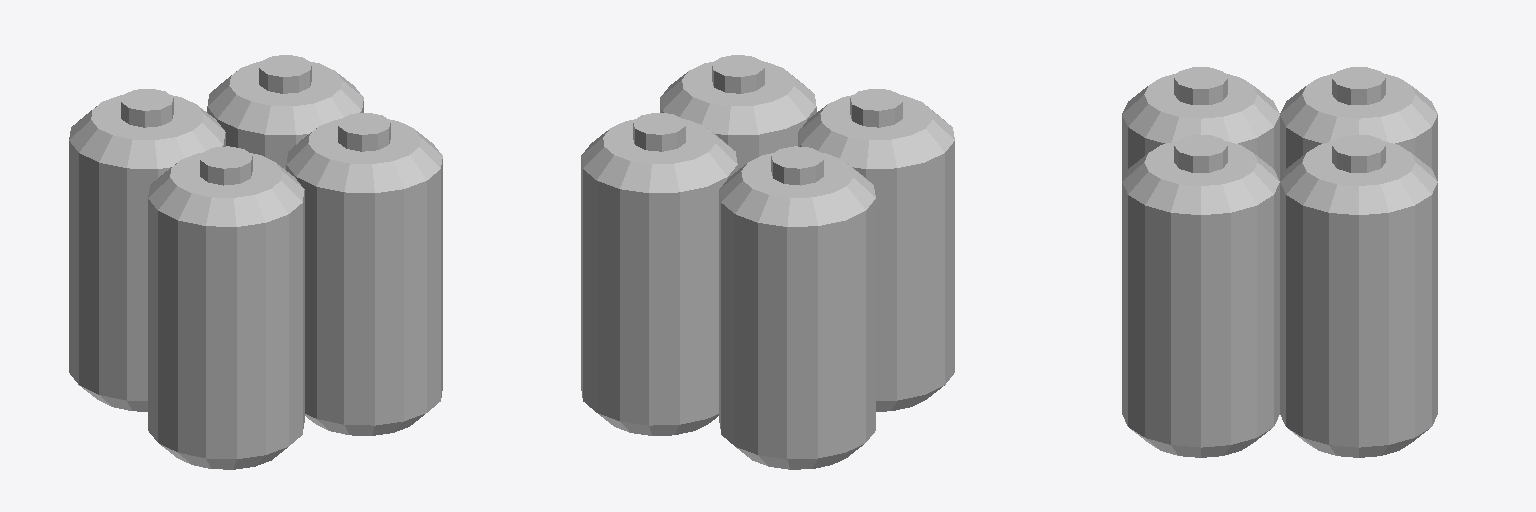
File: quad_battery.obj
3 renders of one model, left to right at view 1: azimuth 30°, elevation 25°; view 2: azimuth 150°, elevation 25°; view 3: azimuth 270°, elevation 25°, orthographic.
Parts seen in each view (by area): view 1: Cylinder; view 2: Cylinder; view 3: Cylinder.
Boxes of the visible parts, <box> form: Cylinder: <box>69,55,442,469</box>; Cylinder: <box>581,55,954,469</box>; Cylinder: <box>1122,67,1437,457</box>.
Size of the model in its own units: 0.9286 by 0.9302 by 0.9233.